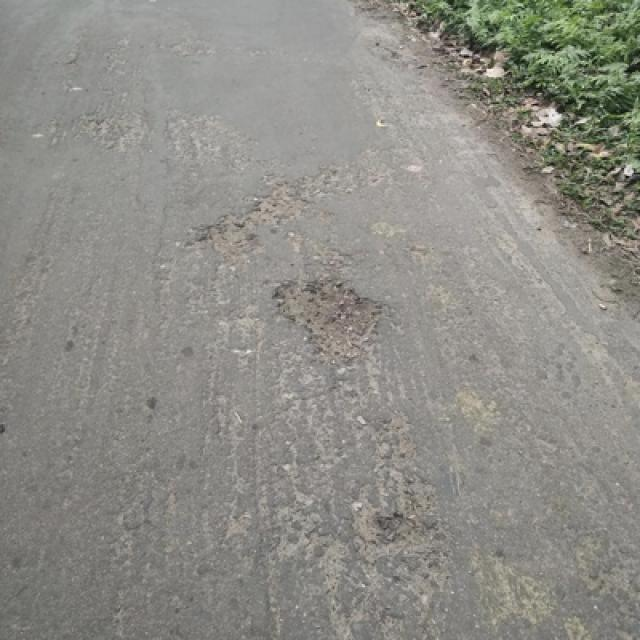jalan_berlubang: (260, 282, 398, 362), (218, 180, 316, 249)
